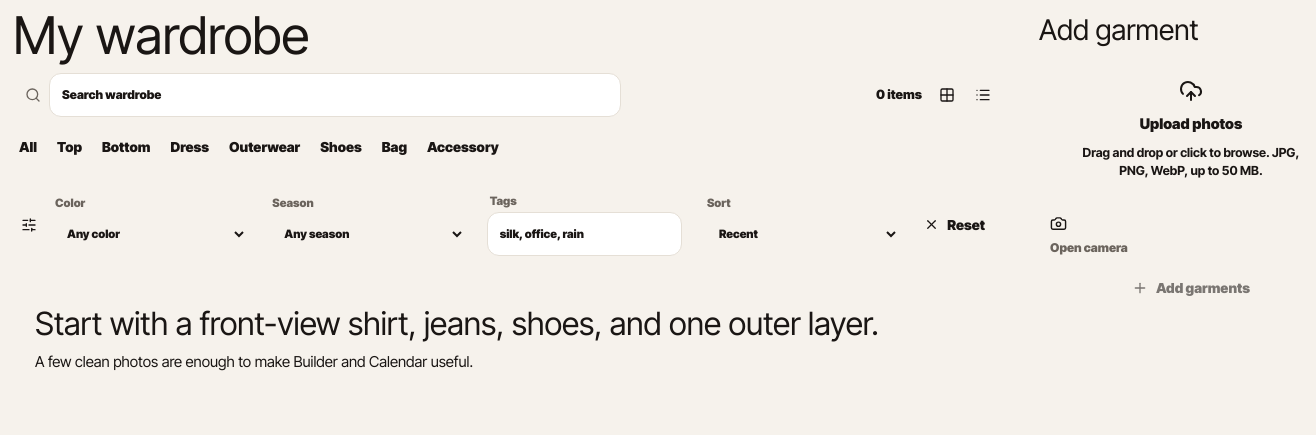
Test: WardrobePage › shows empty examples and reset for filtered empty states
The width and height of the screenshot is (1316, 435).
Expected: the heading "Start with a front-view shirt" is shown, left=35, top=304, right=879, bottom=343
Type "does not exist" into the field labelled "Search wardrobe".
click(335, 95); type("does not exist")  # box left=49, top=73, right=621, bottom=117
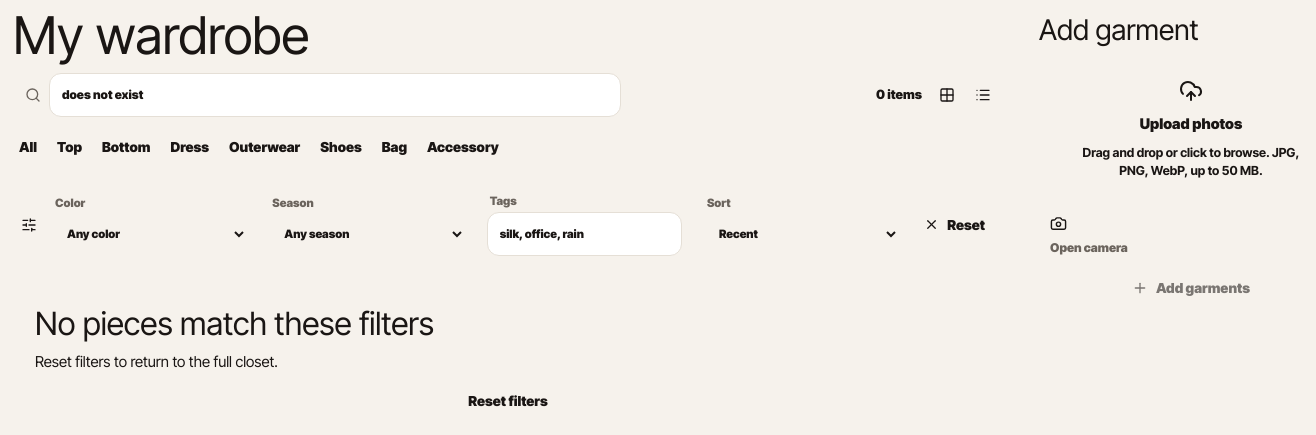
Now the button "Reset filters" is shown, box left=35, top=383, right=981, bottom=419
